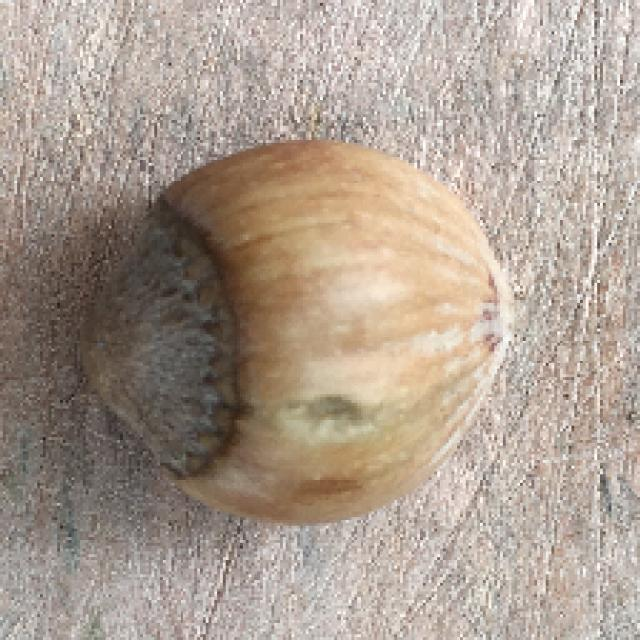DamagedHazelnut: (79, 140, 518, 531)
